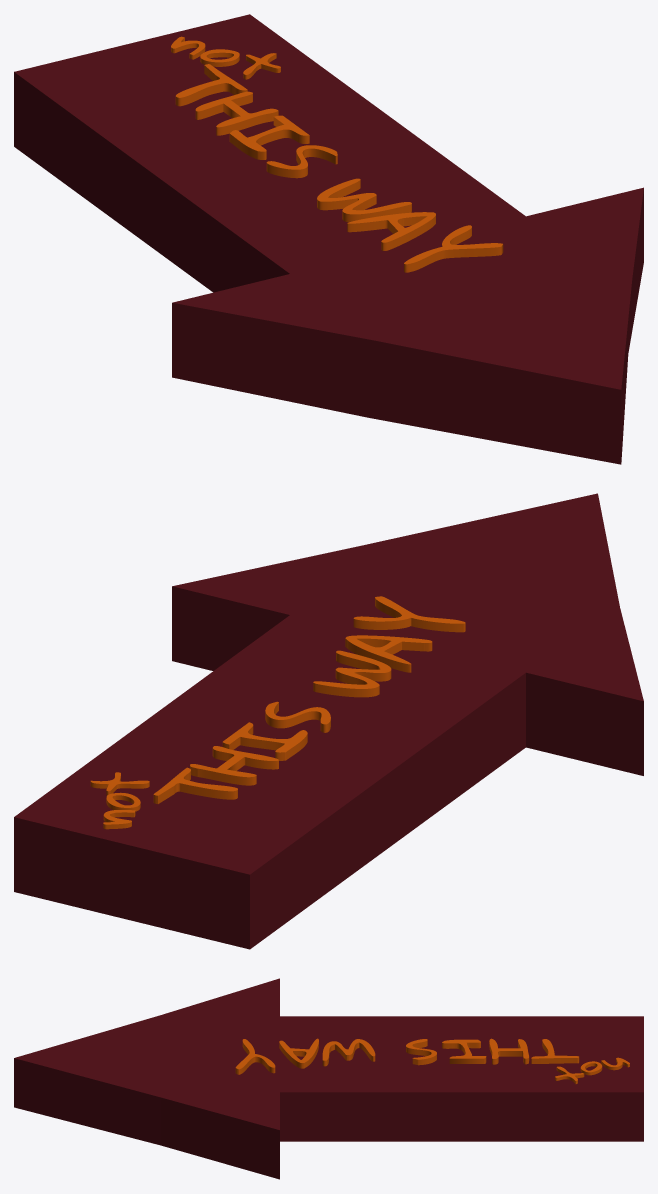
Rendered from sign_wrong_right.fbx.
The picture shows the model from 3 angles, top to bottom: view 1: azimuth 30°, elevation 25°; view 2: azimuth 150°, elevation 25°; view 3: azimuth 270°, elevation 25°; orthographic projection. The views are drawn at different scales.
Parts seen in each view (by area): view 1: SignWrongRight; view 2: SignWrongRight; view 3: SignWrongRight.
Boxes of the visible parts, <box> form: SignWrongRight: <box>14,14,643,464</box>; SignWrongRight: <box>14,493,643,949</box>; SignWrongRight: <box>14,978,643,1179</box>.
Size of the model in its own units: 400 by 67.42 by 701.
